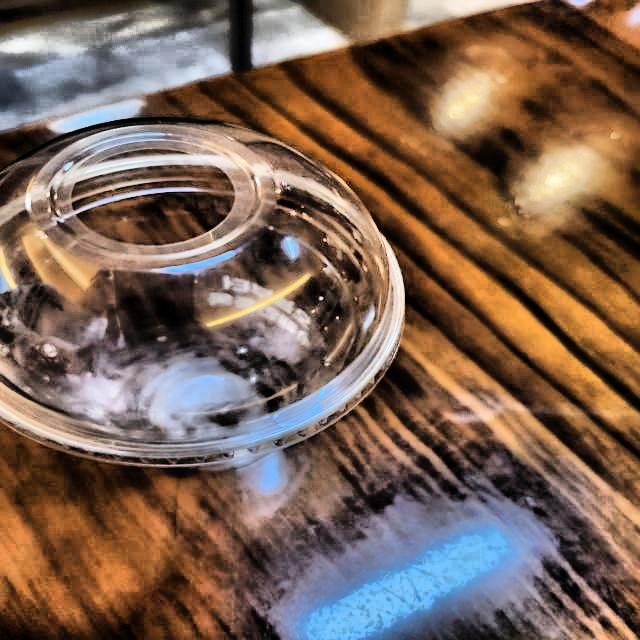plastic cup: (0, 104, 449, 531)
